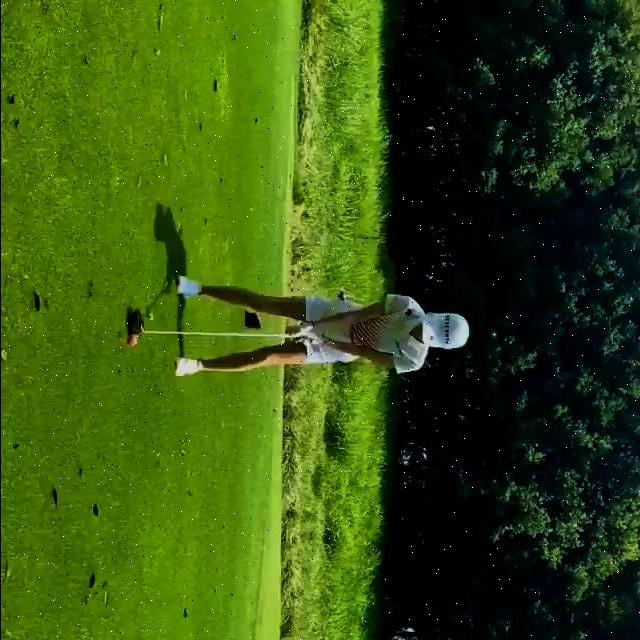golf ball: (128, 337, 136, 348)
golf club-handle: (129, 307, 295, 339)
golf club-head: (128, 307, 143, 334)
